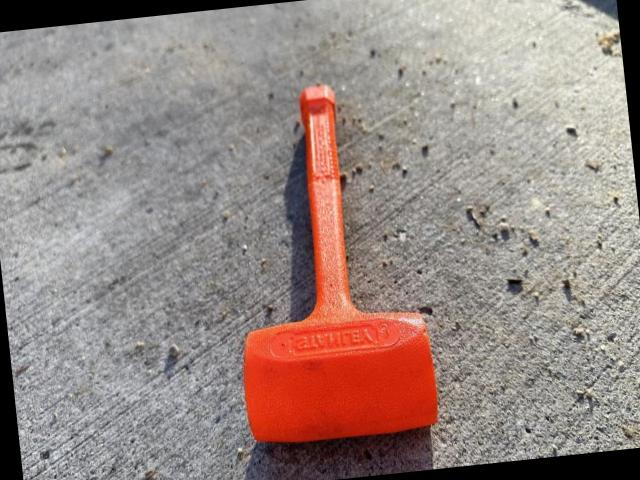hammer: (212, 74, 438, 450)
